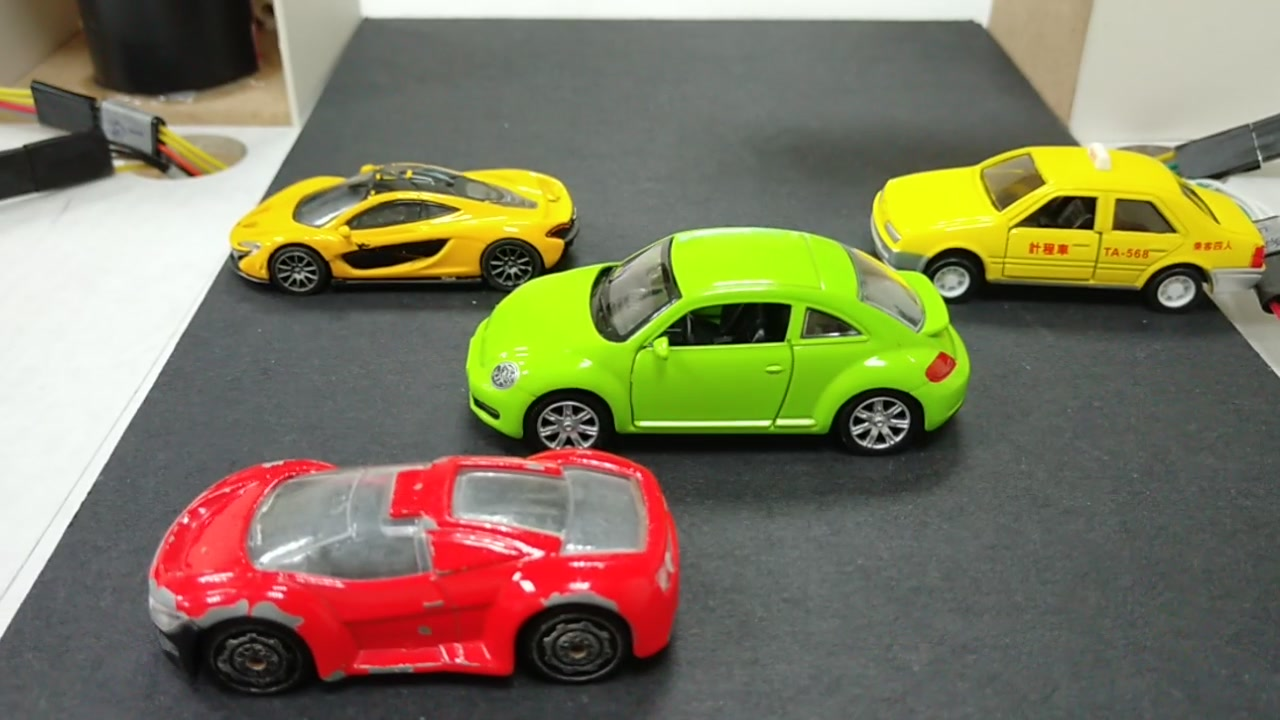car: (160, 453, 676, 692), (491, 240, 962, 461), (876, 155, 1267, 319), (226, 156, 574, 286)
